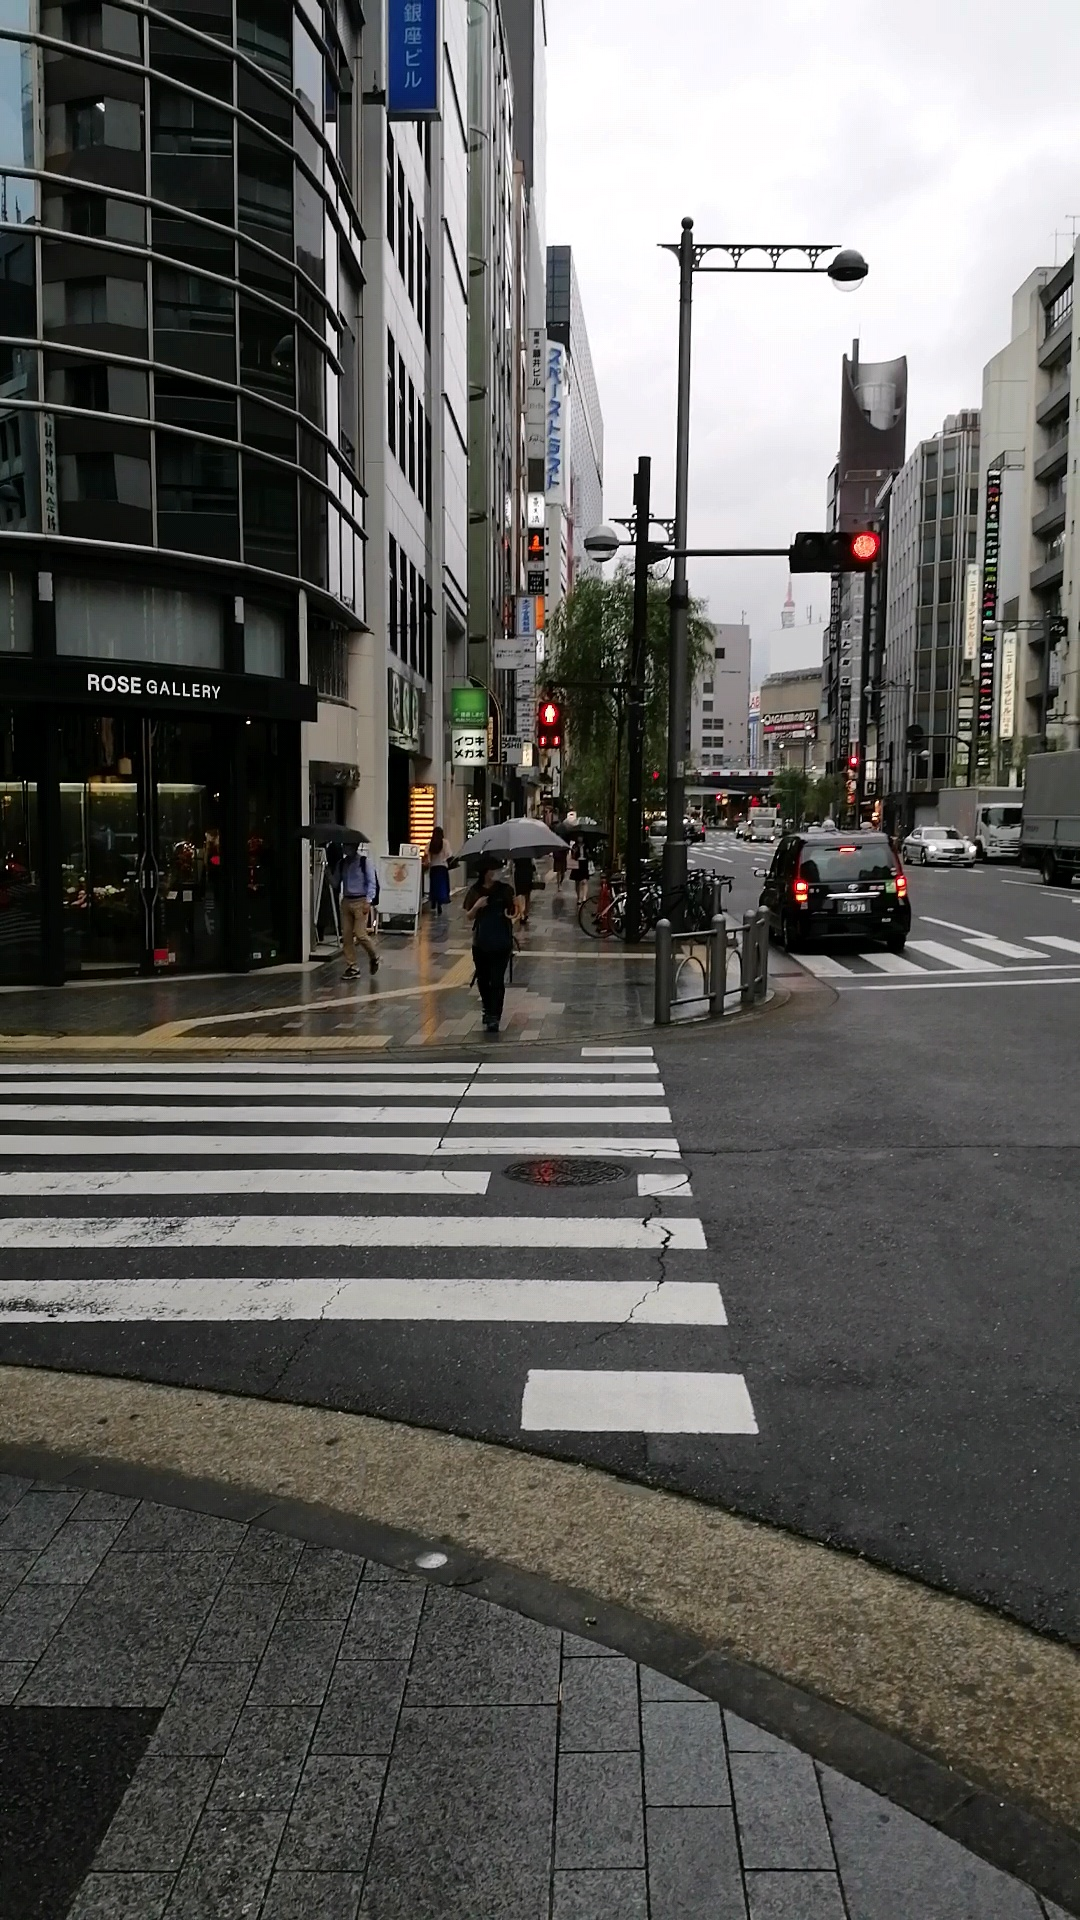red: (535, 700, 562, 748)
